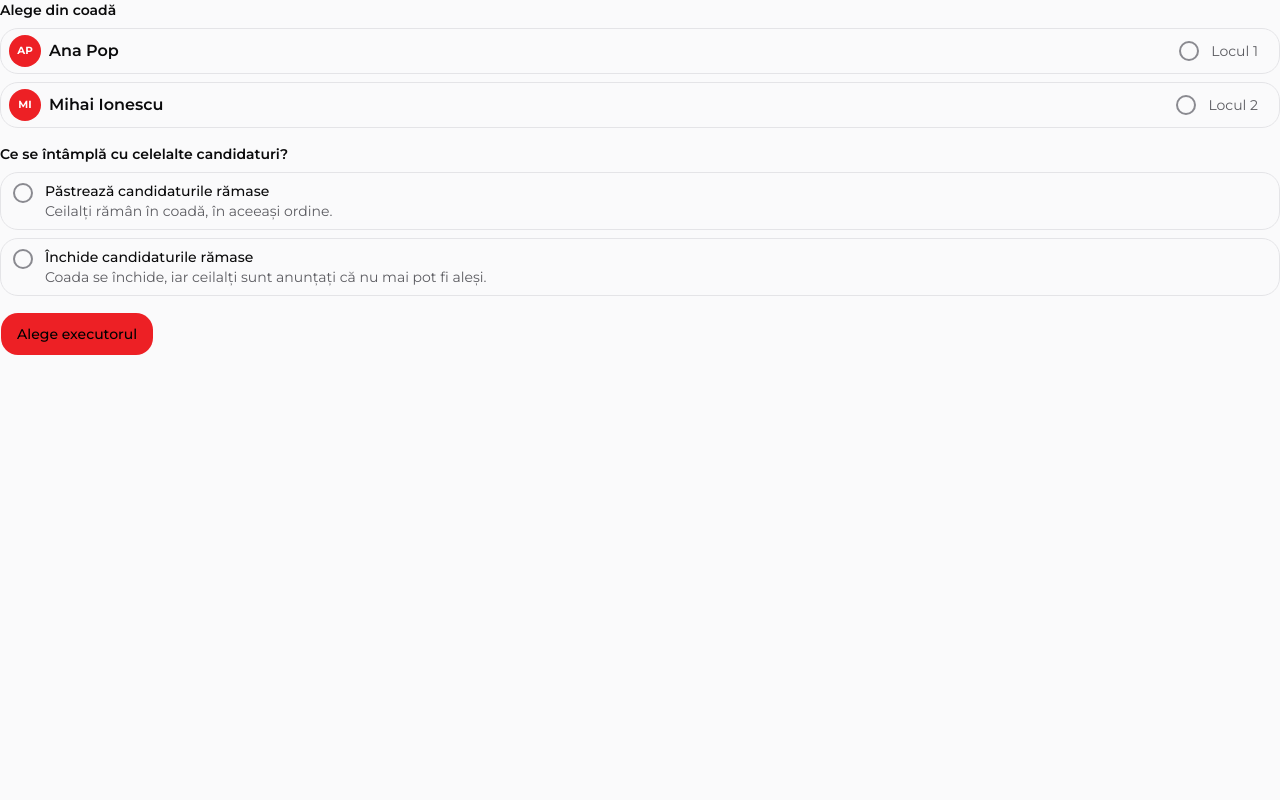
Task candidate selector › preserves the selection and refreshes the queue after a race conflict
The image size is (1280, 800).
Click the radio button named "Ana Pop" at (1189, 51), box x1=1179 y1=41 x2=1199 y2=61
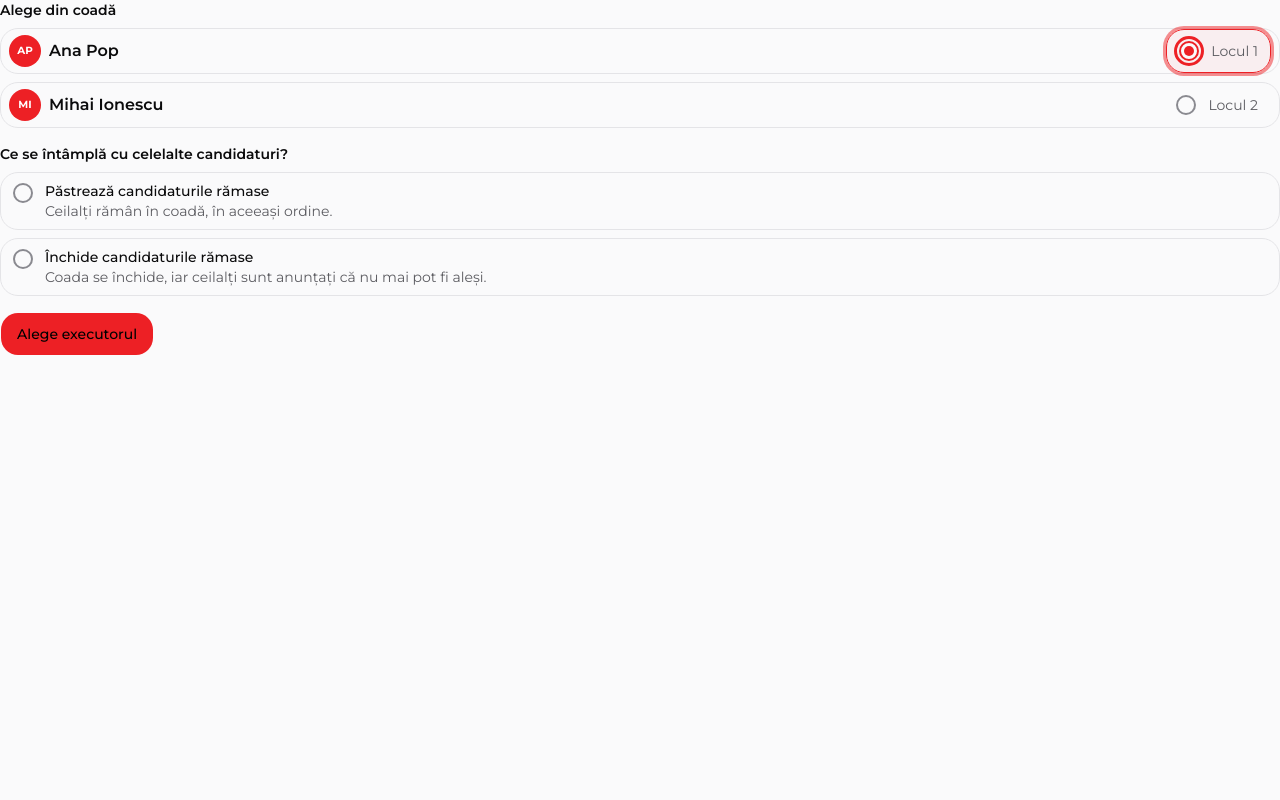
Click the radio button named "Păstrează candidaturile rămase" next to "Păstrează candidaturile rămase" at (23, 193), box x1=13 y1=183 x2=33 y2=203
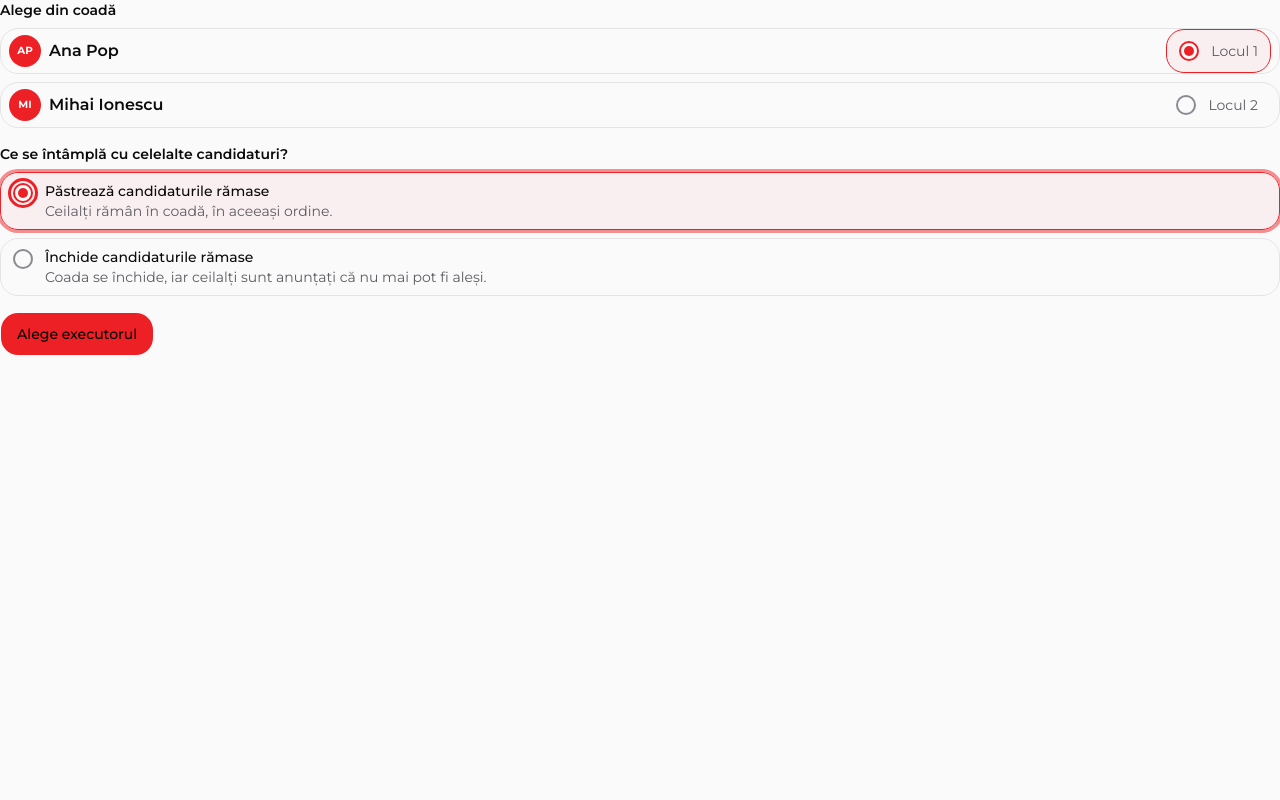
Click the button "Alege executorul" at (77, 334), box x1=0 y1=312 x2=154 y2=356
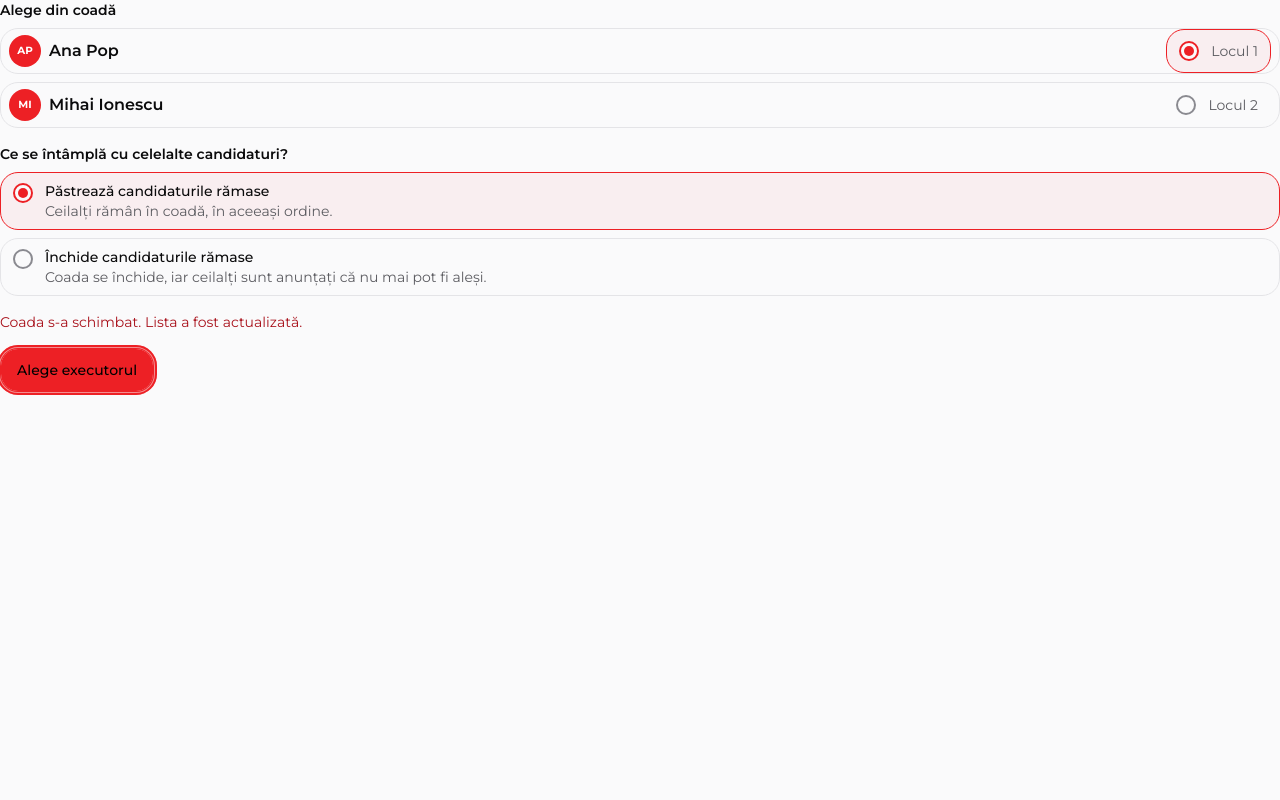
expect the radio button named "Ana Pop" is checked: met, box x1=1179 y1=41 x2=1199 y2=61
expect the message shows "Coada s-a schimbat.": met, box x1=0 y1=313 x2=302 y2=331
